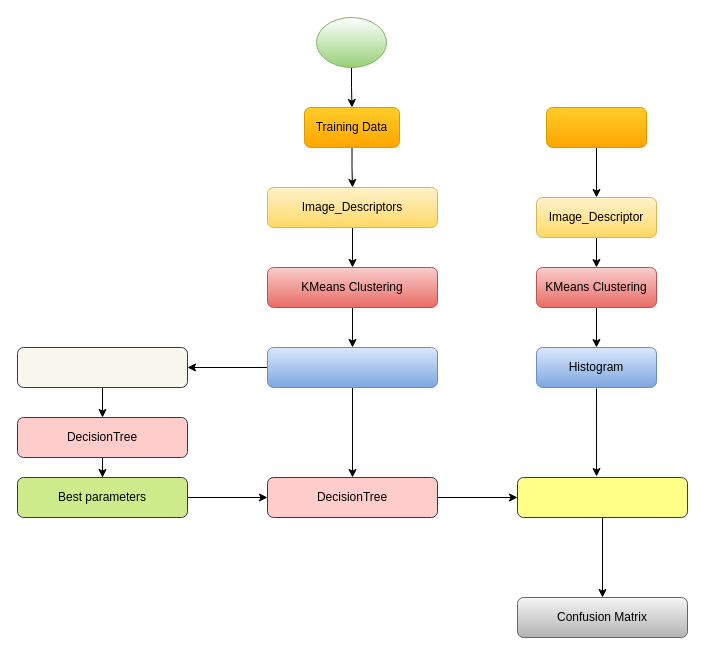
The diagram is 705 pixels wide and 655 high, and some of its shapes have lost their labels. The centre of each missing label's shape, as x and y in pixels:
"Classification" belongs at pixel 602 497.
"Histograms" belongs at pixel 352 367.
"Split(70%train,30%test)" belongs at pixel 102 367.
"Start" belongs at pixel 351 42.
"Test Data" belongs at pixel 596 127.
